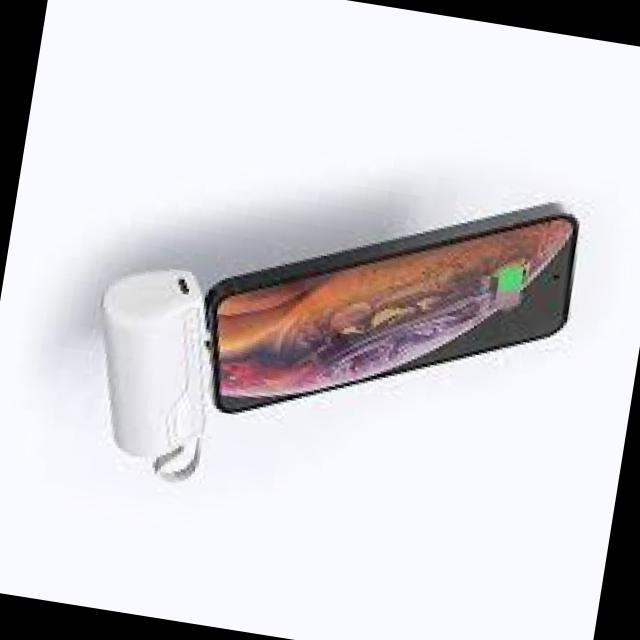power_bank: (72, 252, 229, 474)
